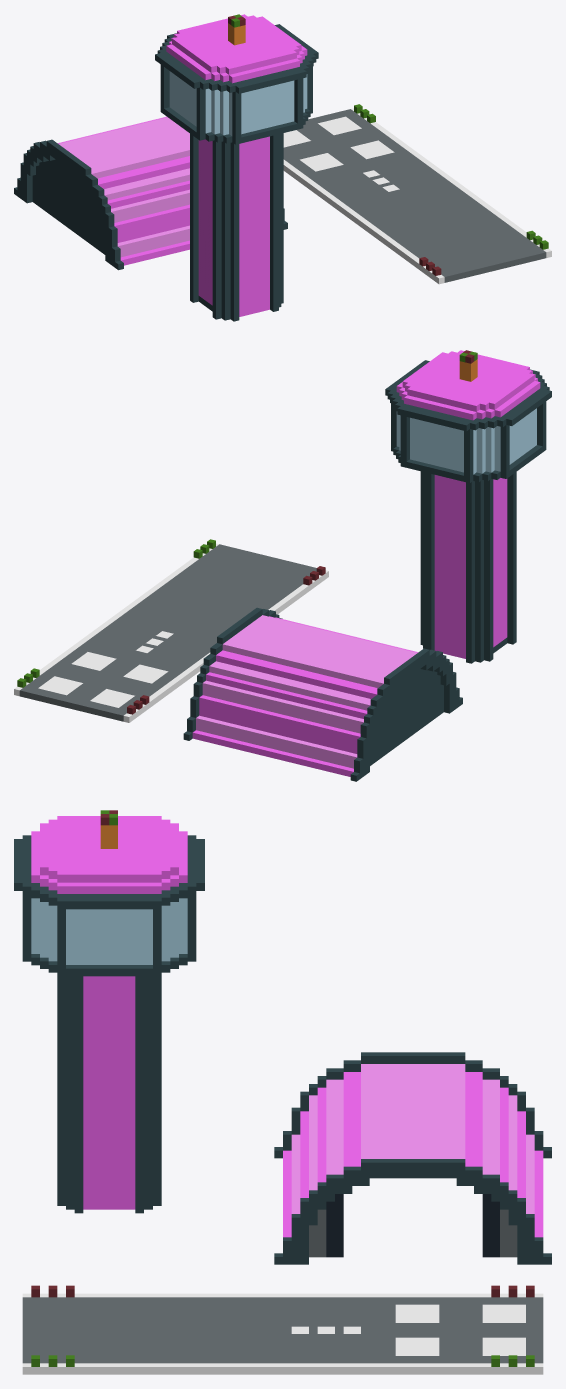
Rendered from airfield.obj.
3 views of the same model, one above another, from view 1: azimuth 30°, elevation 25°; view 2: azimuth 150°, elevation 25°; view 3: azimuth 270°, elevation 25° (orthographic). The views are drawn at different scales.
Size of the model in its own units: 6.1 by 4.8 by 6.2.
1 material, 1 textured.
